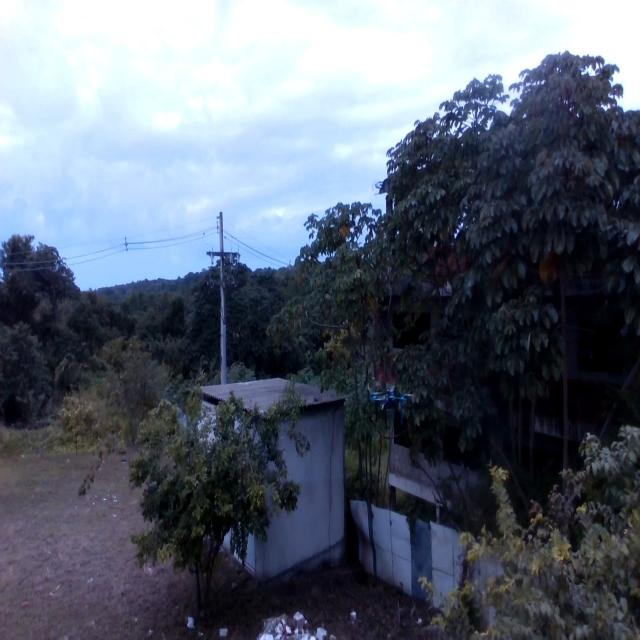-uav-: (362, 379, 416, 431)
